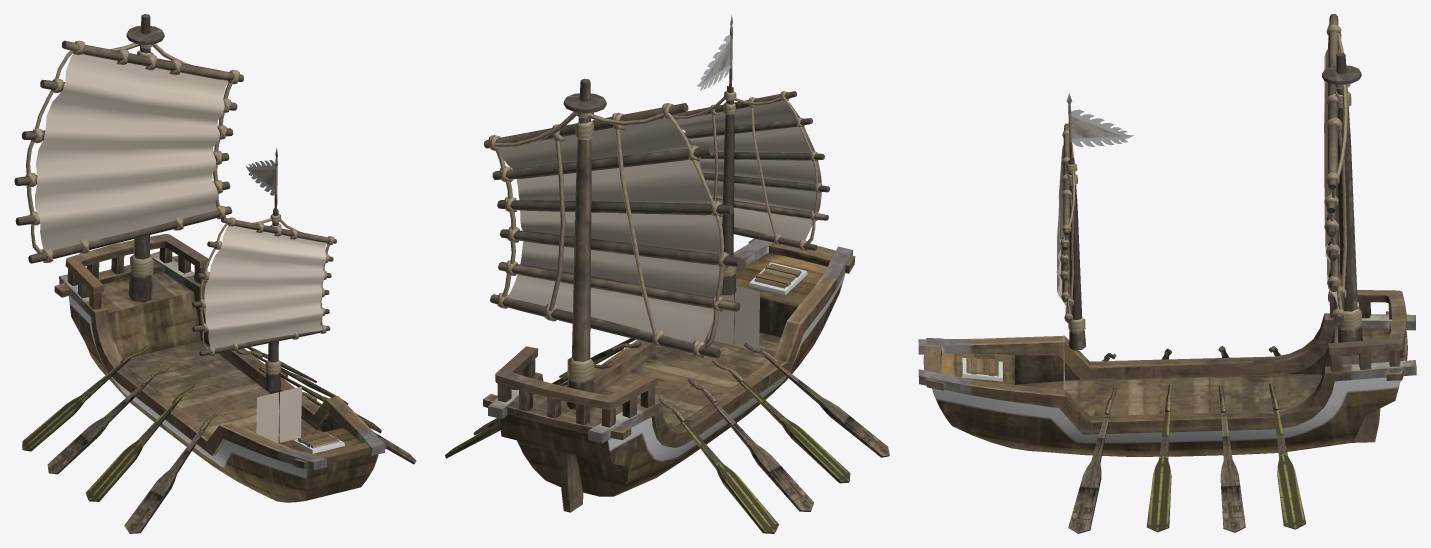
File: 265-doujian.glb
The picture shows the model from 3 angles, left to right: view 1: azimuth 30°, elevation 25°; view 2: azimuth 150°, elevation 25°; view 3: azimuth 270°, elevation 25°; orthographic projection. The views are drawn at different scales.
Bounding box in the file's own units: 4.81 × 6.03 × 6.67.
4 materials, 3 textured.
